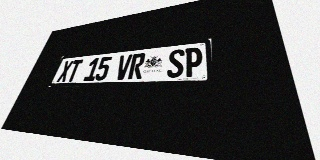1: (83, 57, 101, 81)
5: (94, 56, 112, 81)
P: (184, 47, 202, 77)
R: (127, 53, 146, 79)
S: (166, 49, 185, 78)
T: (65, 59, 83, 82)
V: (114, 54, 133, 80)
X: (56, 60, 74, 82)
